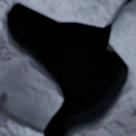broken_brick: (19, 0, 135, 69), (0, 106, 42, 135)
crack: (2, 0, 135, 135)
